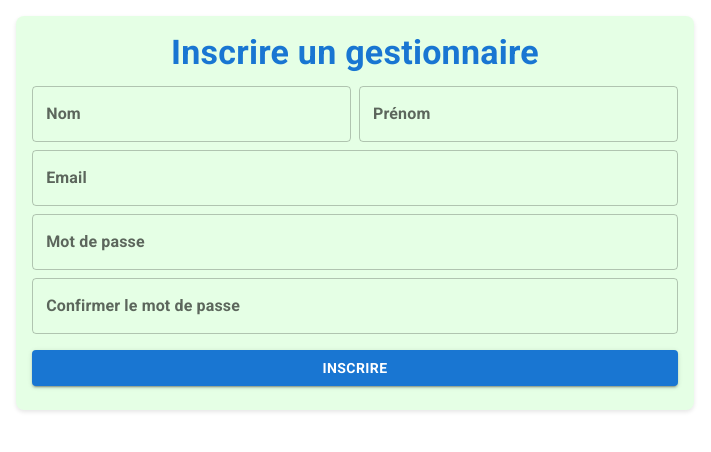
Test: ManagerRegisterPage › displays error for invalid email format
Type "Doe" into the field labelled "Nom" at [192, 114], box 32,86 -> 351,142
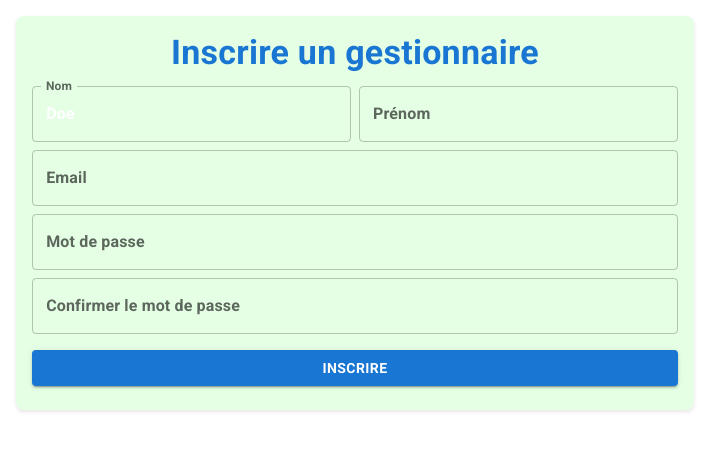
Type "John" into the field labelled "Prénom" at [518, 114], box 359,86 -> 678,142
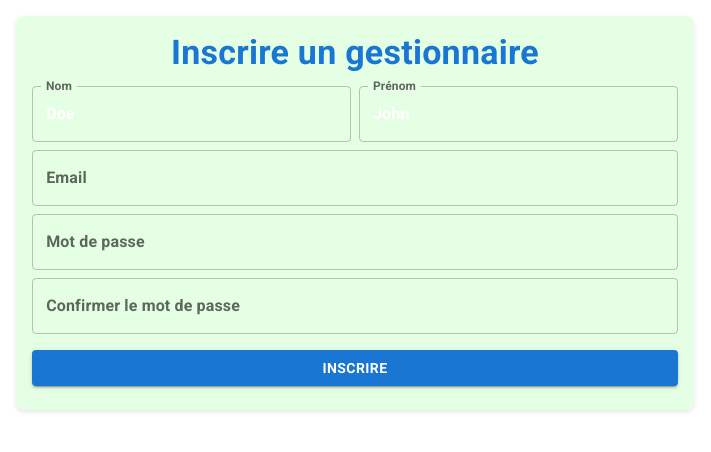
Type "invalid-email" into the field labelled "Email" at [355, 178], box 32,150 -> 678,206
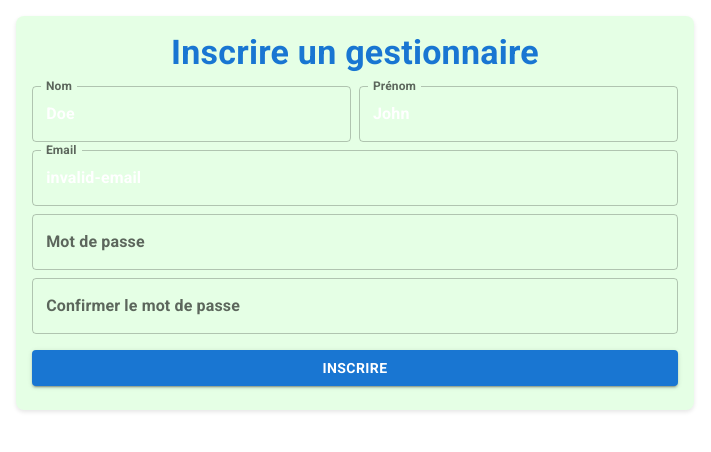
Type "Password123!" into the password field labelled "Mot de passe" at [355, 242], box 32,214 -> 678,270
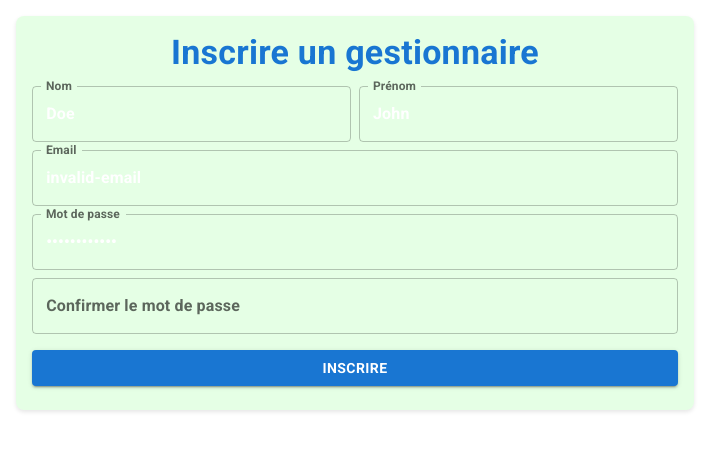
Type "Password123!" into the password field labelled "Confirmer le mot de passe" at [355, 306], box 32,278 -> 678,334
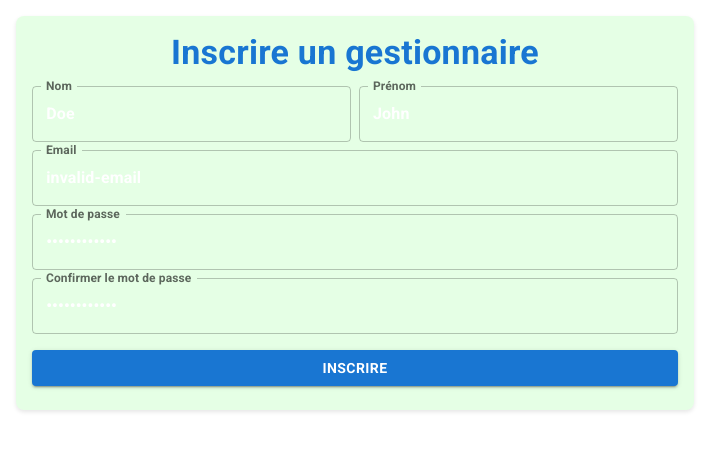
# Submit form
Click the button with test id "submit-button" at [355, 368], box 32,350 -> 678,386
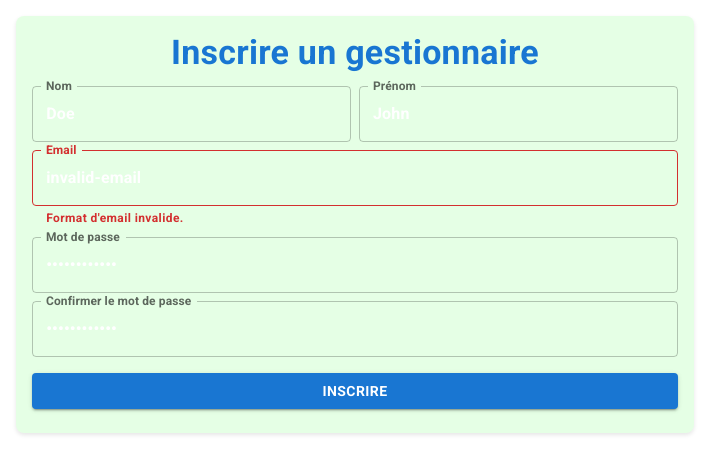
Check: the text "Format d'email invalide." is shown, box 46,211 -> 184,225
